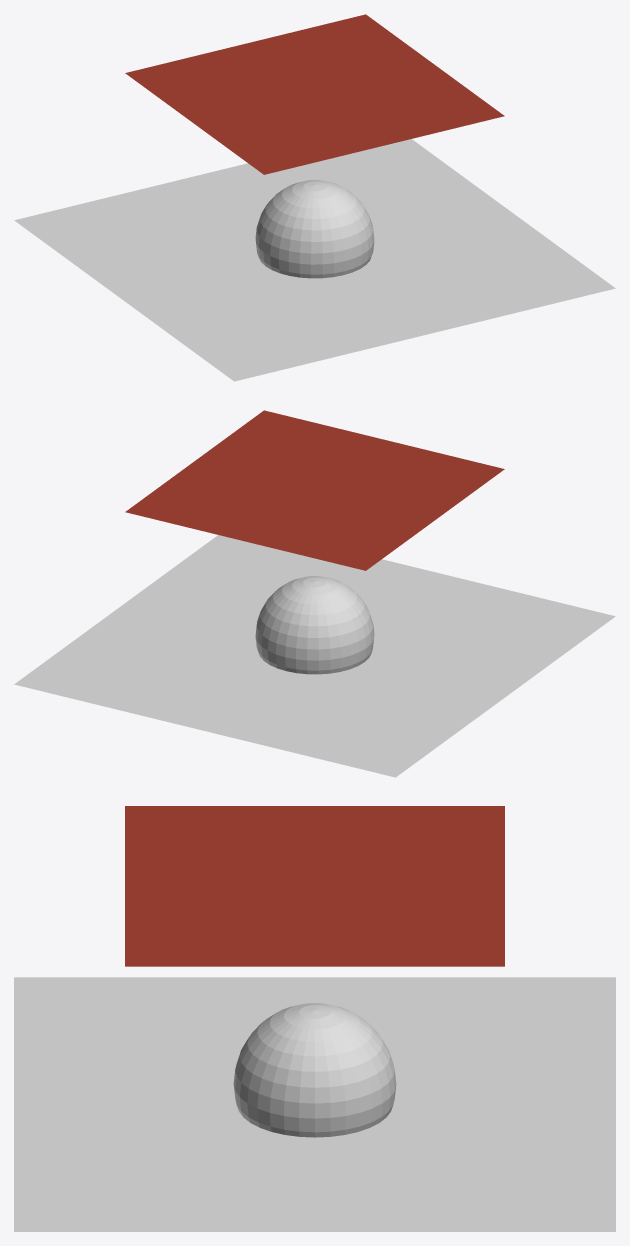
The model's file is Rag_Oiled.gltf.
3 views of the same model, one above another, from view 1: azimuth 30°, elevation 25°; view 2: azimuth 150°, elevation 25°; view 3: azimuth 270°, elevation 25° (orthographic). The views are drawn at different scales.
Parts seen in each view (by area): view 1: Plane.001, Plane, Sphere; view 2: Plane.001, Plane, Sphere; view 3: Plane.001, Plane, Sphere.
Part boxes in pixels (<box>): Plane.001: <box>14,139,615,381</box>; Plane: <box>125,14,504,174</box>; Sphere: <box>255,180,374,278</box>; Plane.001: <box>14,535,615,777</box>; Plane: <box>125,410,504,570</box>; Sphere: <box>255,576,374,674</box>; Plane.001: <box>14,977,615,1231</box>; Plane: <box>125,806,504,966</box>; Sphere: <box>233,1003,396,1137</box>.
Size of the model in its own units: 7.58 by 3.77 by 7.58.
